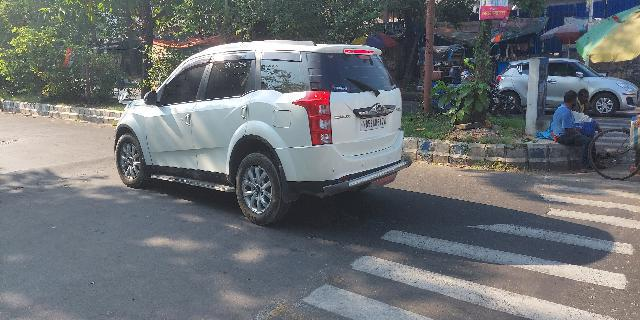Car: (110, 40, 414, 226)
